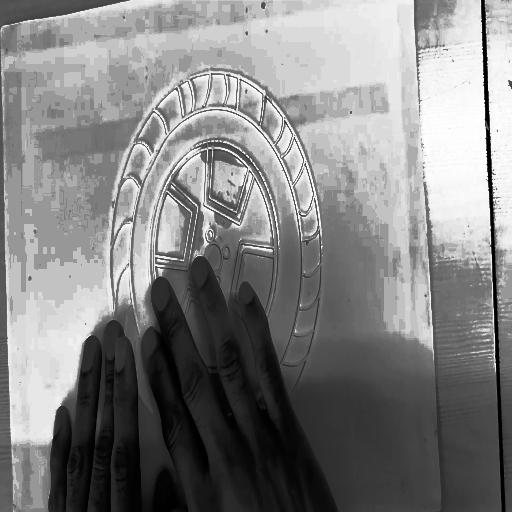bottom_right: (439, 504, 444, 512)
tire: (95, 40, 337, 464)
top_left: (0, 25, 3, 31)
